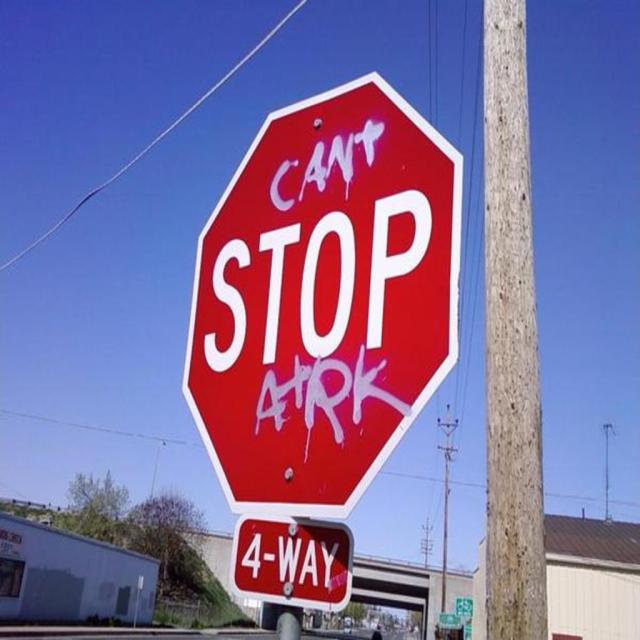Stop-sign: (179, 70, 461, 518)
